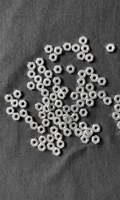nut: (81, 44, 90, 53), (45, 45, 54, 54), (49, 53, 58, 62), (91, 74, 100, 83), (104, 97, 113, 106), (47, 103, 56, 112), (30, 122, 39, 131), (53, 117, 62, 126), (59, 122, 68, 131), (50, 126, 59, 135), (92, 135, 100, 145), (107, 44, 116, 52), (80, 36, 88, 45), (73, 44, 81, 53), (54, 47, 63, 55), (78, 52, 86, 61), (86, 54, 94, 63), (98, 78, 107, 86), (78, 70, 87, 78), (67, 65, 75, 74), (54, 66, 63, 74), (36, 58, 45, 66), (28, 62, 37, 70), (38, 66, 47, 74), (35, 75, 43, 84), (78, 78, 87, 86), (86, 84, 95, 92), (90, 91, 98, 100), (98, 91, 107, 99), (53, 77, 62, 85), (43, 79, 52, 87), (37, 83, 45, 92), (27, 82, 36, 90), (77, 86, 85, 95), (81, 92, 89, 101), (60, 87, 69, 95), (50, 93, 58, 102), (42, 89, 50, 98), (86, 99, 95, 107), (71, 105, 80, 113), (63, 105, 71, 114), (55, 100, 64, 108), (42, 119, 51, 127), (38, 126, 46, 135), (25, 116, 34, 124), (12, 113, 21, 121), (6, 107, 15, 115), (5, 95, 14, 103), (14, 90, 22, 99), (47, 112, 55, 121), (65, 116, 73, 125), (71, 114, 80, 122), (70, 122, 78, 131), (64, 128, 72, 137), (80, 122, 88, 131), (75, 128, 83, 137), (93, 124, 101, 133), (85, 128, 94, 136), (83, 131, 91, 140), (81, 136, 90, 144), (55, 133, 63, 142), (46, 135, 55, 143), (57, 140, 65, 149), (53, 148, 61, 157), (47, 143, 56, 151), (38, 144, 47, 152), (64, 43, 72, 51), (45, 70, 53, 78), (28, 71, 36, 79), (71, 92, 79, 100), (53, 86, 61, 94), (58, 92, 66, 100), (77, 100, 85, 108), (80, 109, 88, 117), (43, 97, 51, 105), (43, 105, 51, 113), (35, 103, 43, 111), (39, 111, 47, 119), (20, 110, 28, 118), (19, 100, 27, 108), (11, 100, 19, 108), (39, 136, 47, 144), (31, 139, 39, 147), (86, 68, 95, 75), (113, 112, 120, 121), (56, 109, 63, 118), (63, 114, 71, 121), (115, 104, 120, 113), (115, 95, 120, 103), (117, 121, 120, 130)
